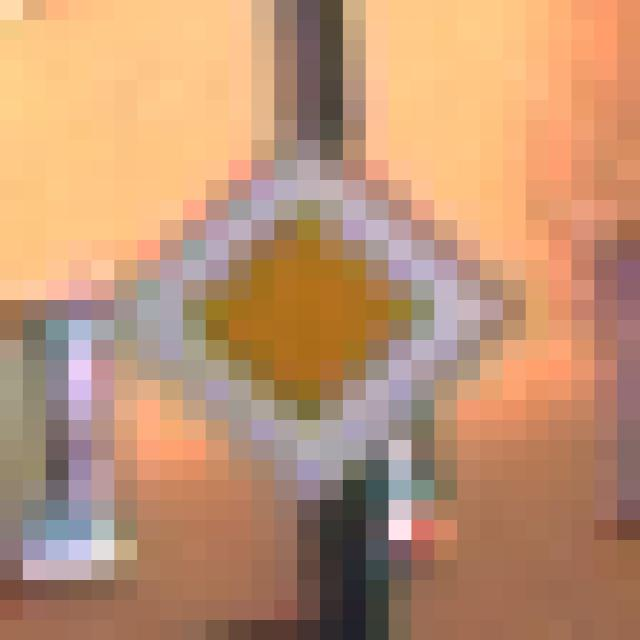Main Road: (115, 101, 527, 541)
